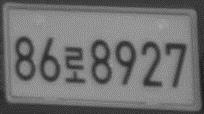2: (140, 39, 164, 89)
6: (39, 36, 62, 84)
7: (165, 42, 187, 89)
8: (90, 38, 114, 85), (14, 35, 36, 81)
9: (113, 39, 137, 85)
로: (63, 44, 87, 85)
